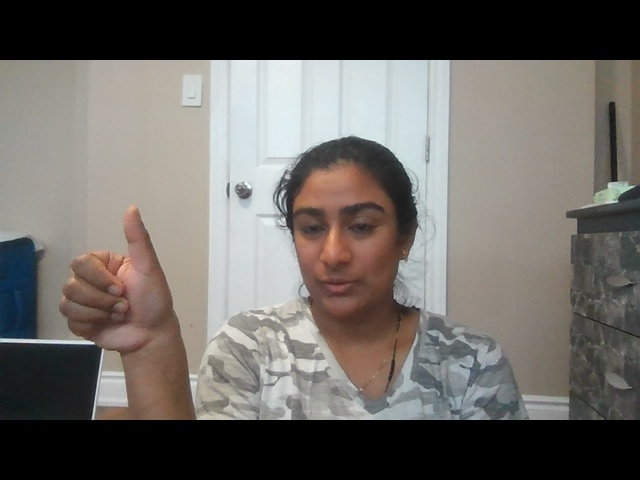yes: (62, 203, 174, 355)
